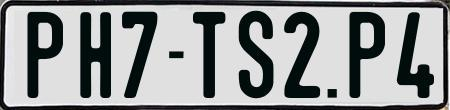2: (282, 11, 322, 103)
4: (394, 10, 433, 100)
7: (119, 9, 155, 96)
H: (78, 10, 110, 101)
P: (348, 11, 389, 97), (27, 12, 66, 102)
S: (239, 10, 278, 98)
T: (190, 10, 226, 100)
